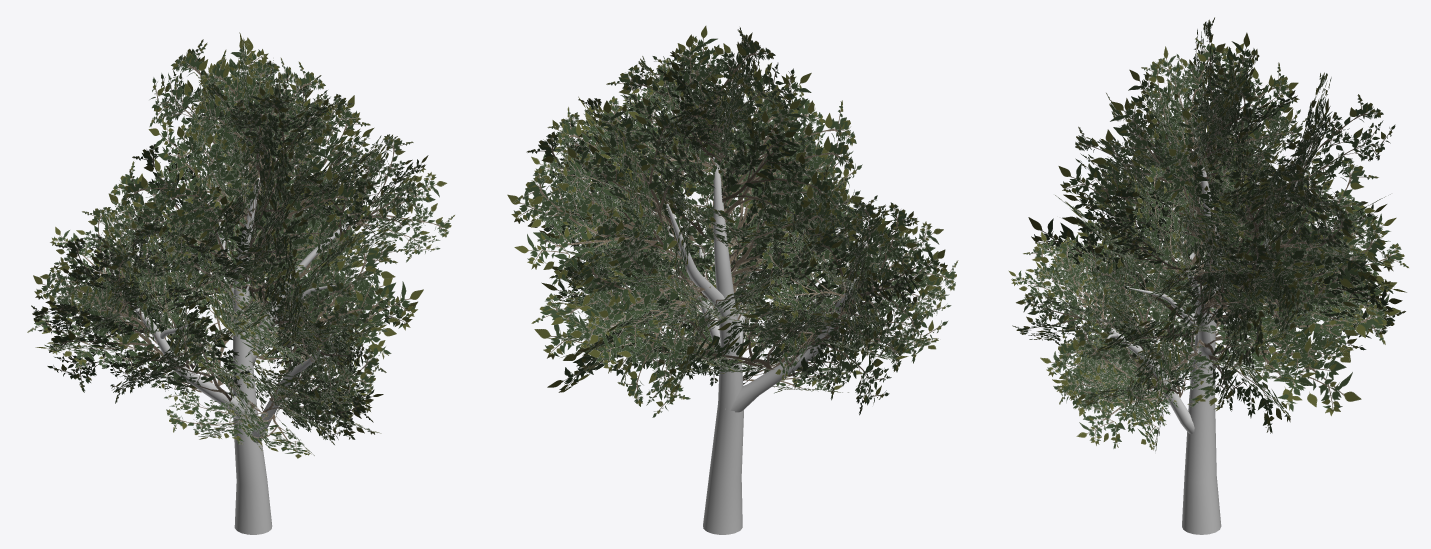
File: Tree2.fbx
3 renders of one model, left to right at view 1: azimuth 30°, elevation 25°; view 2: azimuth 150°, elevation 25°; view 3: azimuth 270°, elevation 25°, orthographic. The views are drawn at different scales.
Visible parts, largest first — view 1: Tree2; view 2: Tree2; view 3: Tree2.
Boxes of the visible parts, bbox=[...] form: Tree2: bbox=[27, 32, 454, 534]; Tree2: bbox=[507, 25, 958, 534]; Tree2: bbox=[1008, 17, 1408, 534].
Size of the model in its own units: 3.94 by 4.51 by 3.39.
